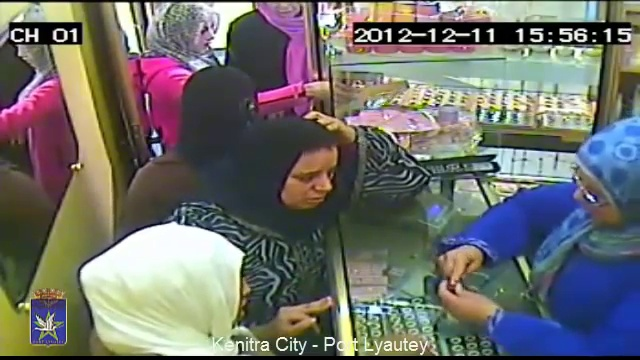face: (285, 156, 336, 206), (193, 20, 215, 56)
